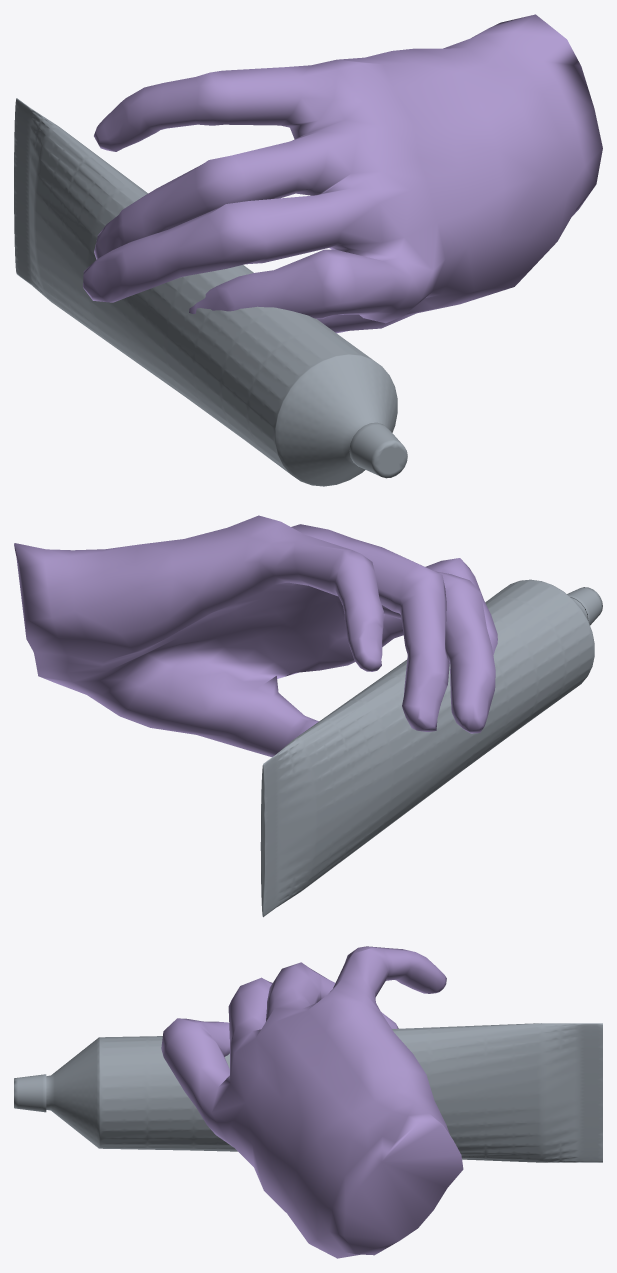
The model's file is ours_3.glb.
The picture shows the model from 3 angles, top to bottom: view 1: azimuth 30°, elevation 25°; view 2: azimuth 150°, elevation 25°; view 3: azimuth 270°, elevation 25°; orthographic projection. The views are drawn at different scales.
Size of the model in its own units: 0.1611 by 0.089 by 0.202.
